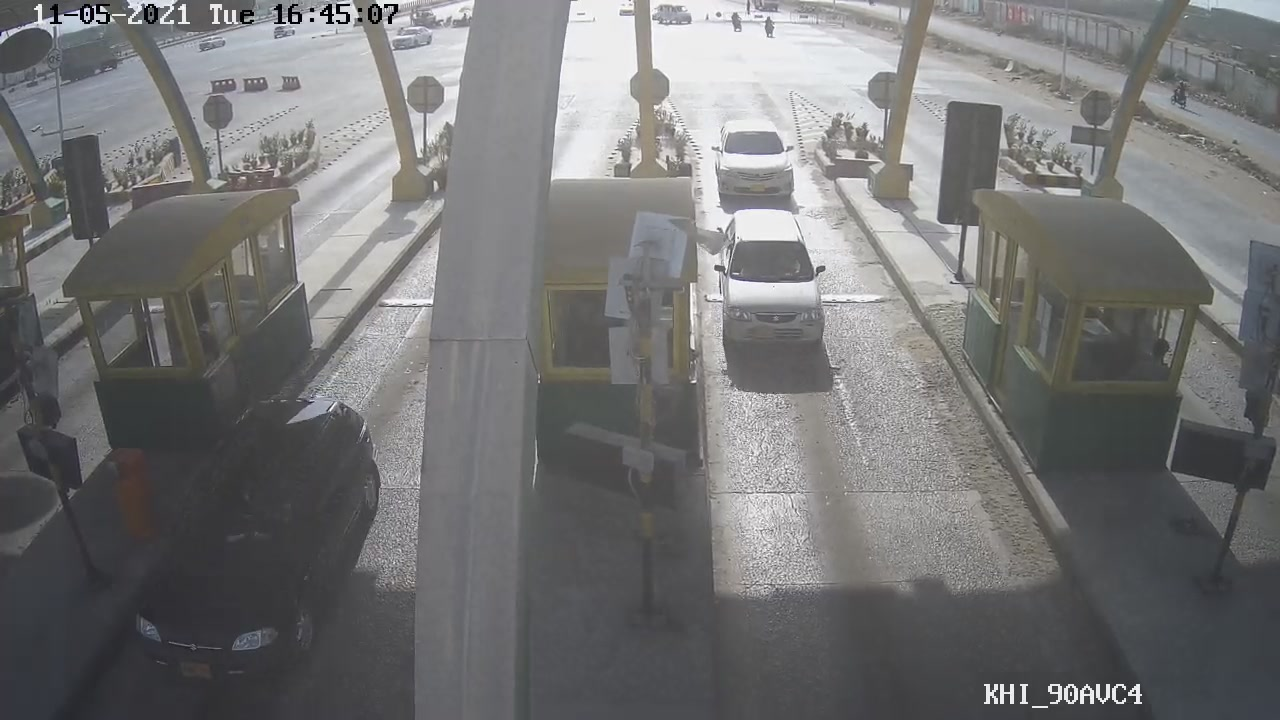F1: (706, 205, 846, 341)
